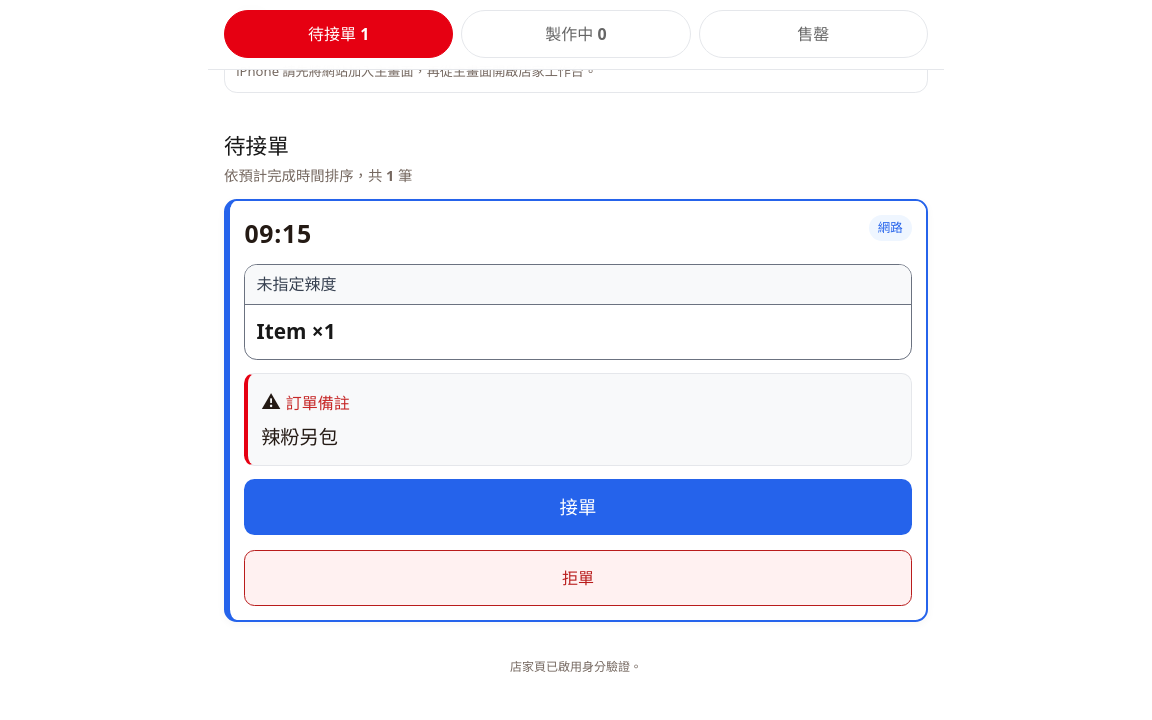
it: Merchant Store safety DOM › keeps Store controls stable when Reject removes an Order
(page scrolled)
Expected: the text "訂單備註" is shown, [286,392,350,414]
Expected: the text "辣粉另包" is shown, [261,423,338,450]
Click the button with class "reject-button" at (578, 578), box [244,550,912,606]
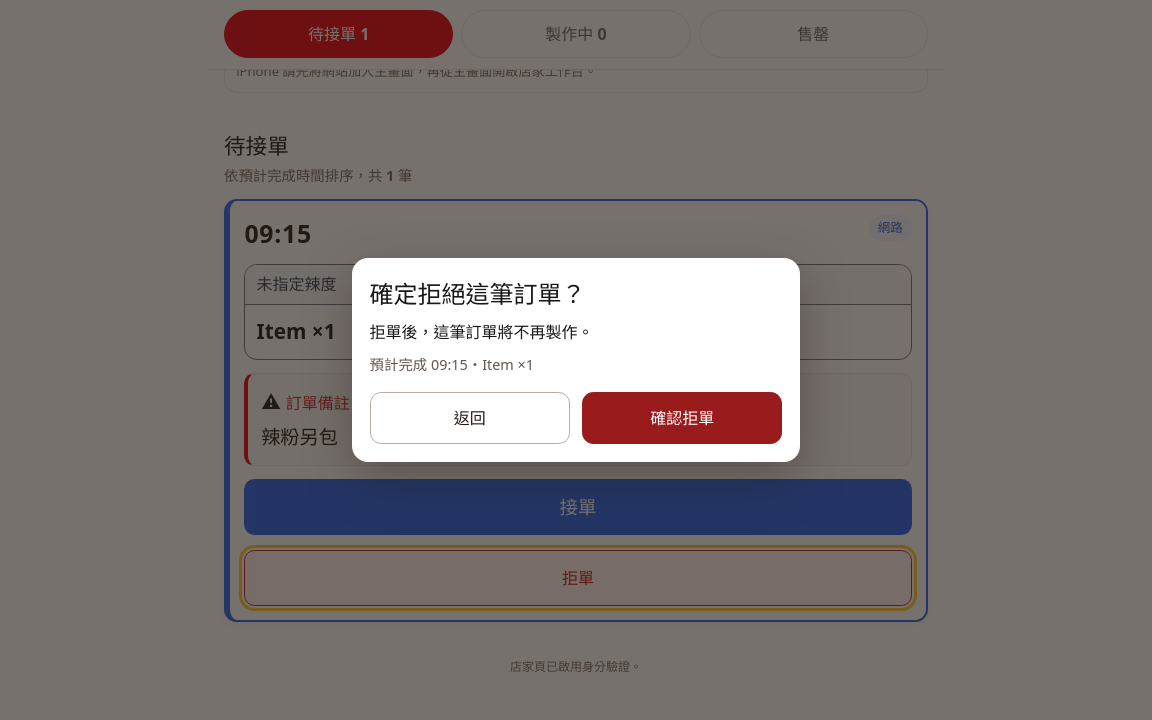
Click the button "確認拒單" at (682, 418), box [582,392,782,444]
(page scrolled)
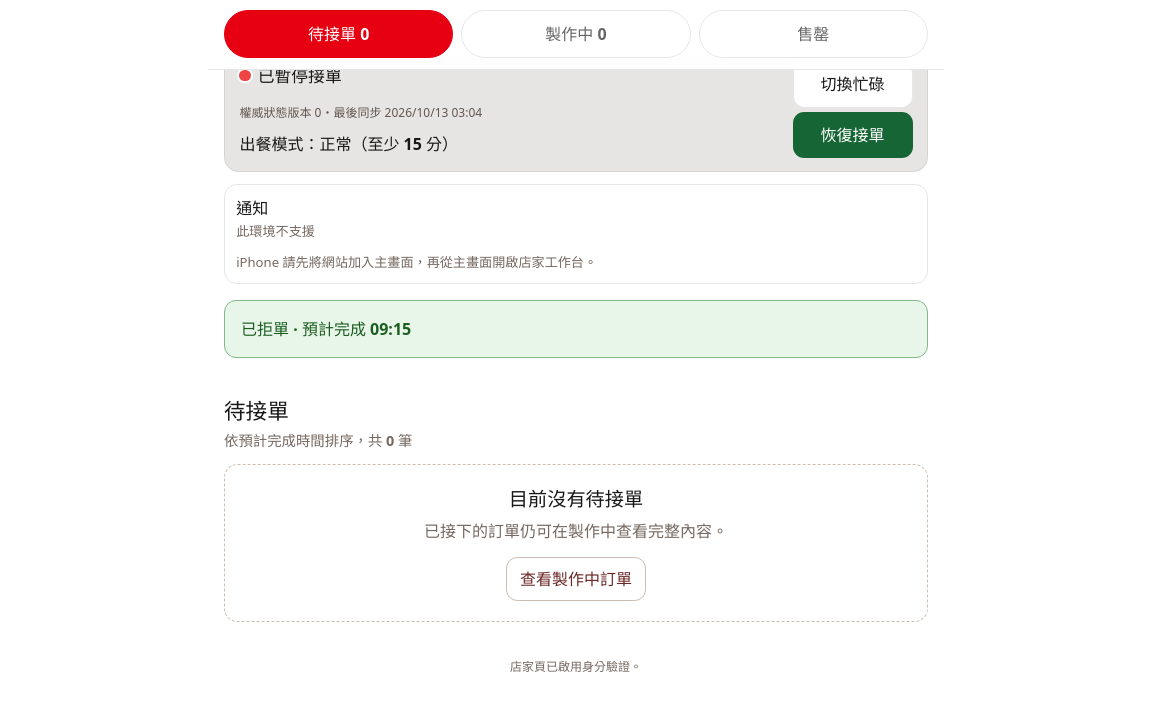
Now the button with class "reject-button" is gone
